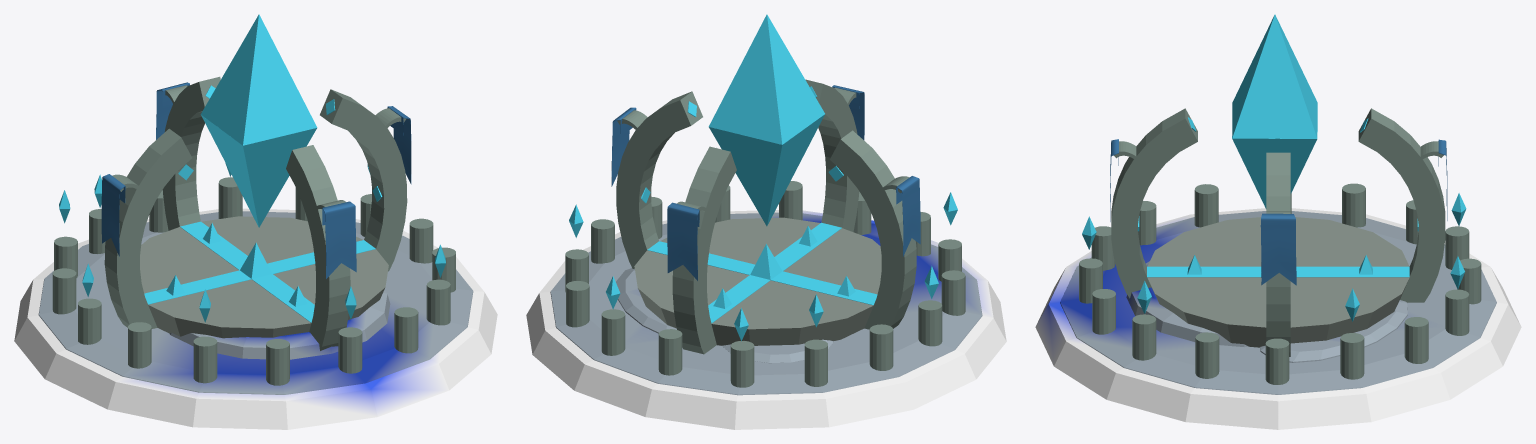
Rendered from IceTower-lvl2.fbx.
3 views of the same model, side by side, from view 1: azimuth 30°, elevation 25°; view 2: azimuth 150°, elevation 25°; view 3: azimuth 270°, elevation 25° (orthographic).
Parts seen in each view (by area): view 1: Цилиндр, Цилиндр.018, Цилиндр.001, Cone.001, Куб, Куб.001, Куб.013, Куб.012, Цилиндр.019, Plane.009_feather_0.003, Куб.015, Куб.014 (+18 smaller); view 2: Цилиндр, Цилиндр.018, Цилиндр.001, Cone.001, Куб, Куб.001, Куб.012, Куб.013, Plane.009_feather_0.002, Куб.015, Куб.014, Цилиндр.021 (+19 smaller); view 3: Цилиндр, Цилиндр.001, Цилиндр.018, Cone.001, Куб.012, Куб.013, Куб.001, Куб.015, Plane.009_feather_0.001, Цилиндр.021, Цилиндр.019, Цилиндр.013 (+14 smaller).
Part boxes in pixels (x1,y1,x2,y2): Цилиндр: (14,208,497,429); Цилиндр.018: (38,211,473,394); Цилиндр.001: (140,216,388,338); Cone.001: (200,14,317,227); Куб: (104,128,191,328); Куб.001: (320,89,407,271); Куб.013: (286,145,350,350); Куб.012: (162,76,220,230); Цилиндр.019: (169,290,390,359); Plane.009_feather_0.003: (322,201,356,278); Куб.015: (180,221,314,322); Куб.014: (144,240,375,304); Цилиндр: (526,210,1006,429); Цилиндр.018: (550,212,982,395); Цилиндр.001: (634,217,881,345); Cone.001: (708,14,824,226); Куб: (830,130,916,329); Куб.001: (616,91,702,268); Куб.012: (672,146,736,354); Куб.013: (805,79,859,232); Plane.009_feather_0.002: (667,202,699,280); Куб.015: (708,222,841,323); Куб.014: (647,241,877,305); Цилиндр.021: (616,268,676,333); Цилиндр: (1035,208,1521,429); Цилиндр.001: (1147,217,1409,347); Цилиндр.018: (1060,211,1496,394); Cone.001: (1232,14,1317,208); Куб.012: (1358,108,1445,302); Куб.013: (1111,108,1197,298); Куб.001: (1266,152,1290,356); Куб.015: (1147,266,1409,277); Plane.009_feather_0.001: (1260,213,1296,285); Цилиндр.021: (1260,300,1407,362); Цилиндр.019: (1126,261,1248,347); Цилиндр.013: (1404,317,1428,363).
Bounding box in the file's own units: 783 × 558 × 783.
